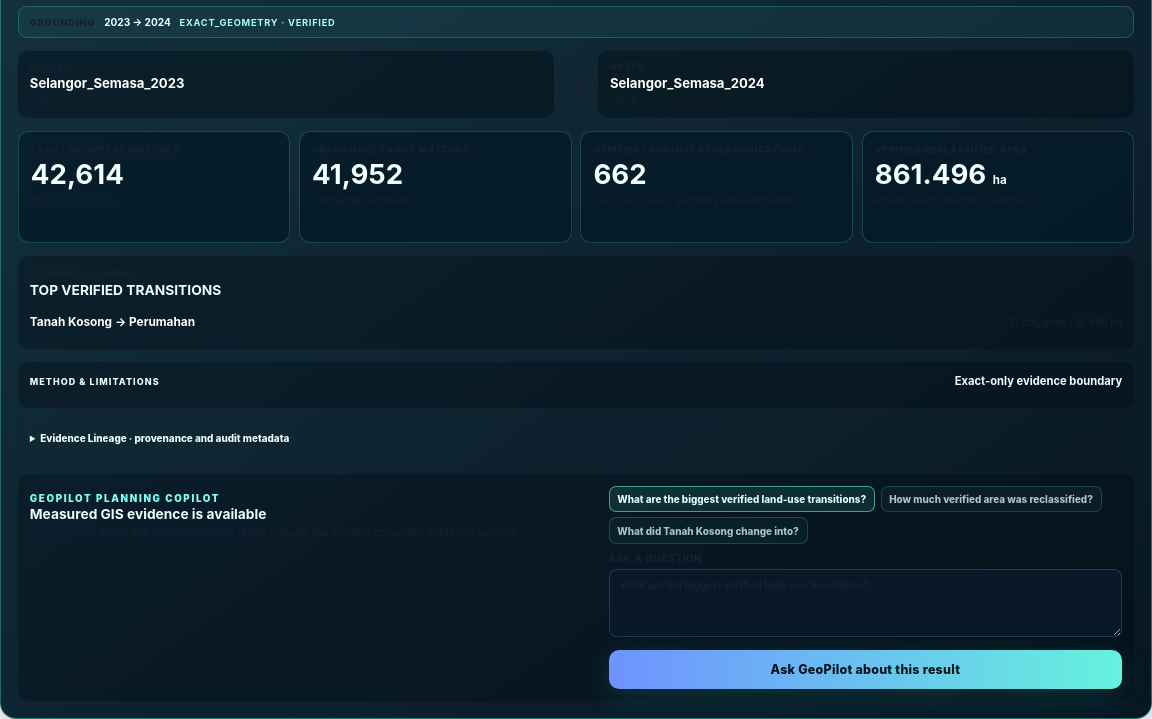
Test: GisTemporalResultDashboard › renders the dynamic GIS result, bounded transitions, limitations, provenance, and Ask action
(page scrolled)
Expected: the text "Selangor_Semasa_2023" is shown, top-left (30, 75), bottom-right (184, 91)
Expected: the text "Selangor_Semasa_2024" is shown, top-left (610, 75), bottom-right (765, 91)
Click the button "Ask GeoPilot about this result": [865, 670] box top-left (608, 650), bottom-right (1122, 689)
(page scrolled)
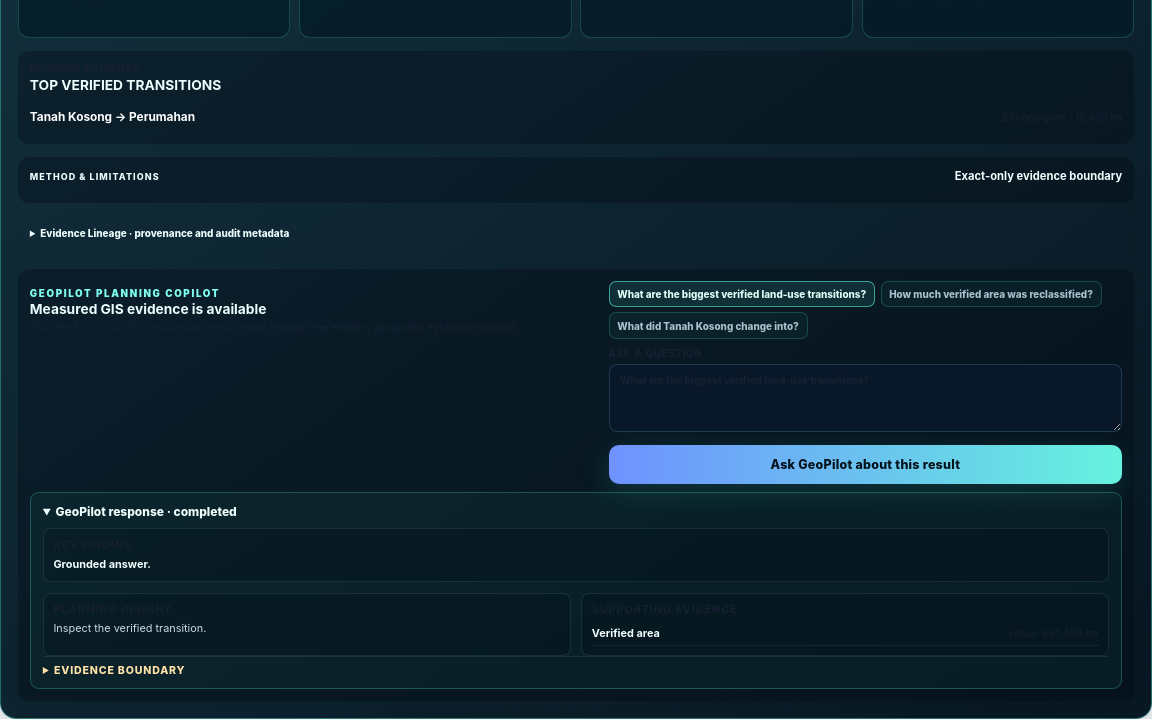
Expected: the text "Grounded answer." is shown, top-left (53, 557), bottom-right (151, 571)
Expected: the heading "Evidence Boundary" is shown, top-left (54, 664), bottom-right (185, 677)
